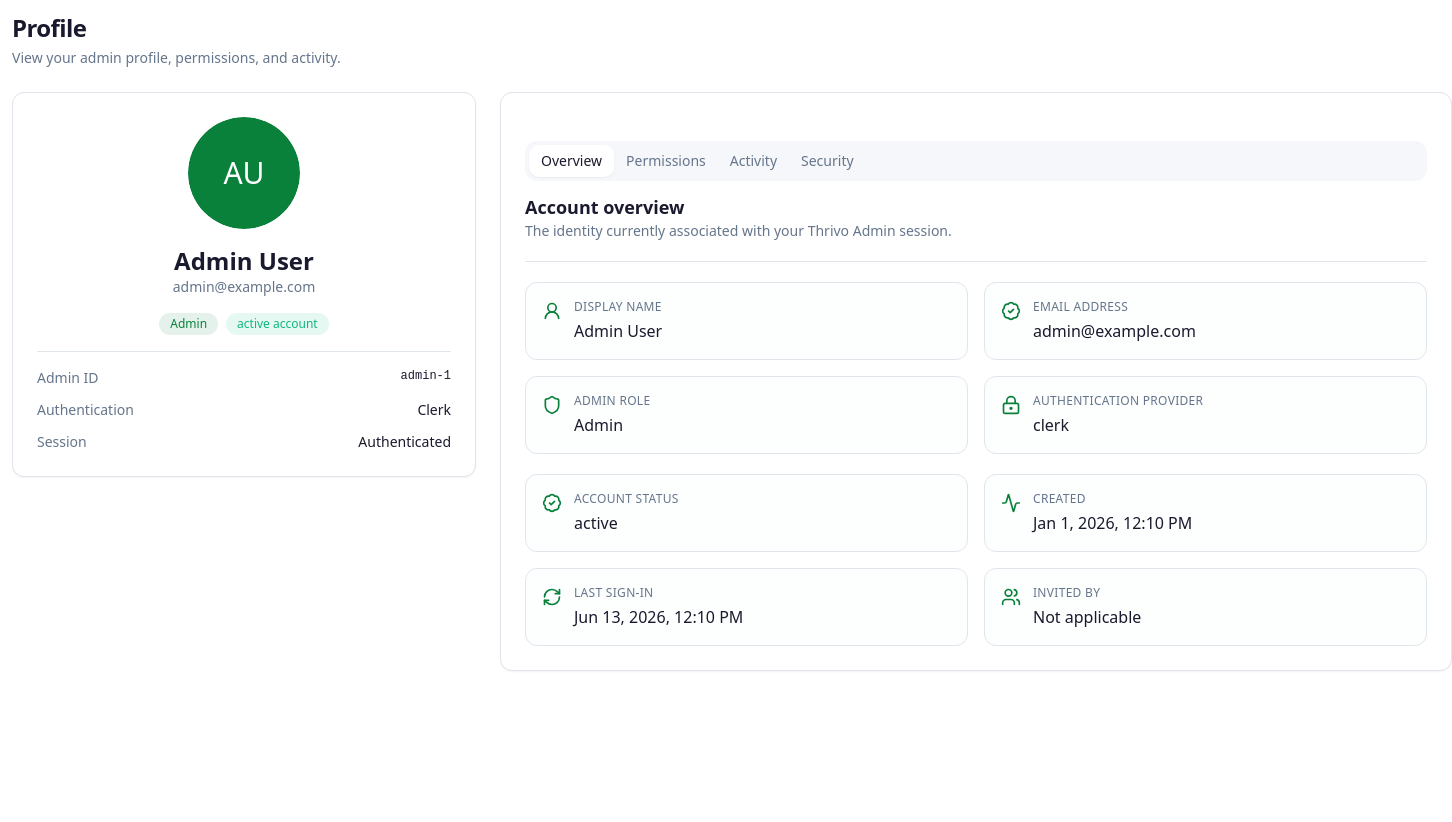
it: AdminProfileSection › shows role-derived permissions
Press the mouse on the tab "Permissions": (666, 161) [614,145,718,177]
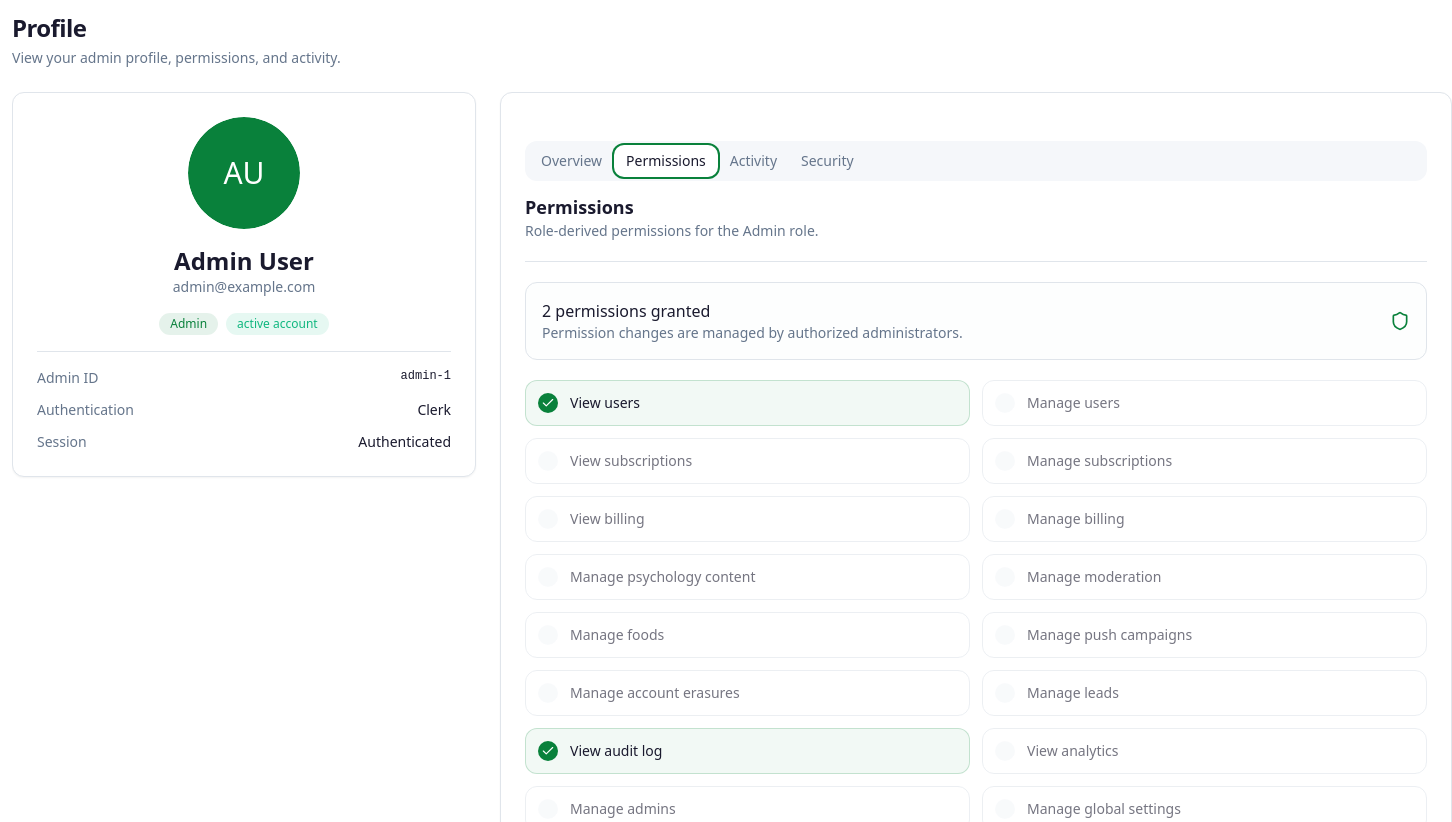
Result: the text "View users" is shown at [570,393,640,413]
Result: the text "Manage global settings" is shown at [1027,799,1181,819]
Result: the text "Role-derived permissions for the Admin role." is shown at [525,221,819,240]
